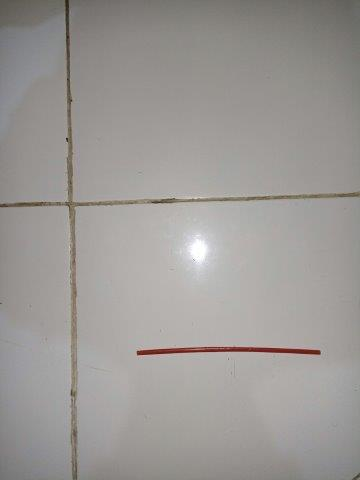sedotan: (137, 347, 321, 356)
